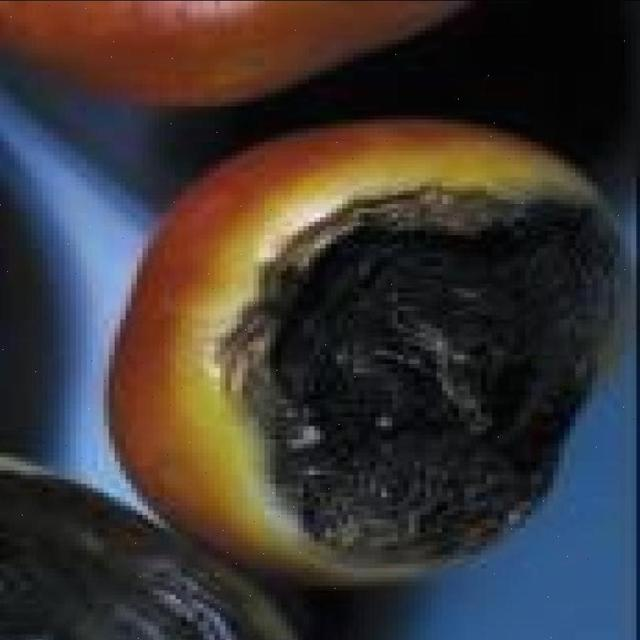Blossom End Rot Fruit: (82, 112, 271, 369)
